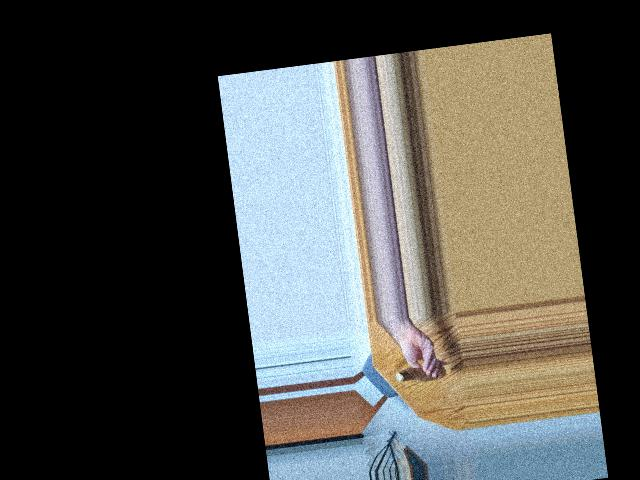sweet_potato: (400, 365, 443, 389)
